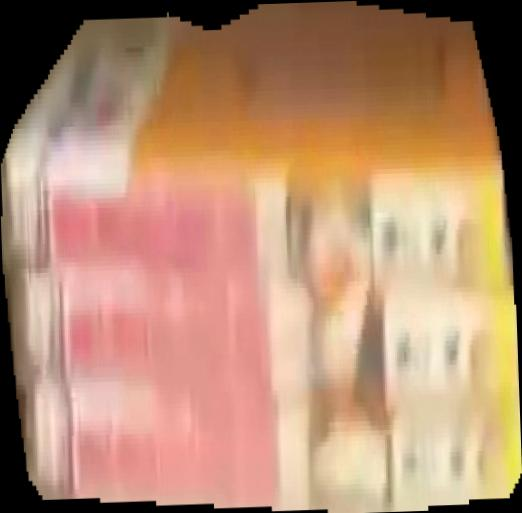flat: (1, 1, 522, 513)
